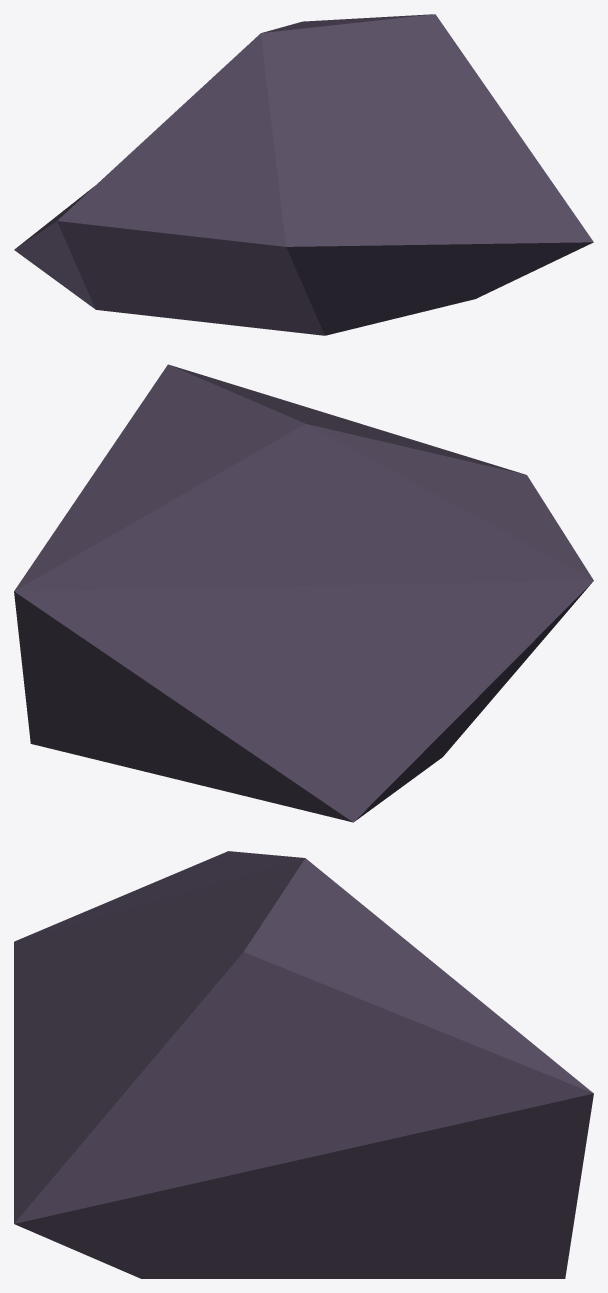
Rendered from SM_rock_small_02.fbx.
3 views of the same model, one above another, from view 1: azimuth 30°, elevation 25°; view 2: azimuth 150°, elevation 25°; view 3: azimuth 270°, elevation 25° (orthographic). The views are drawn at different scales.
Visible parts, largest first — view 1: rock_small_02; view 2: rock_small_02; view 3: rock_small_02.
Part boxes in pixels (bbox=[...]): rock_small_02: bbox=[14, 14, 593, 335]; rock_small_02: bbox=[14, 364, 593, 822]; rock_small_02: bbox=[14, 851, 593, 1278].
Size of the model in its own units: 46.67 by 25.16 by 40.45.
